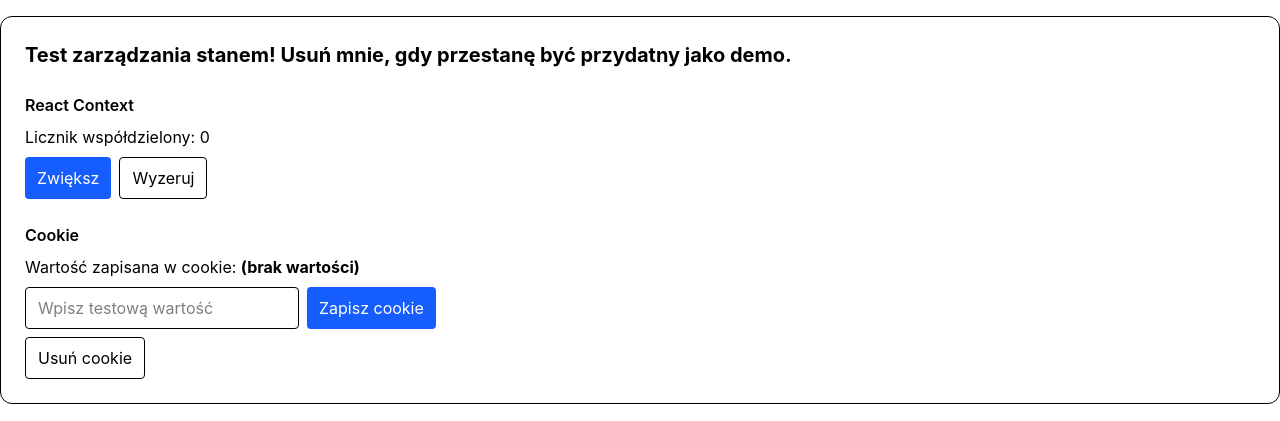
Test: StateDemo — cookies › zapisuje wpisaną wartość w cookie i pokazuje ją na stronie
Type "Moja notatka" into the field named "Wartość cookie" at (162, 308), box [25,287,299,329]
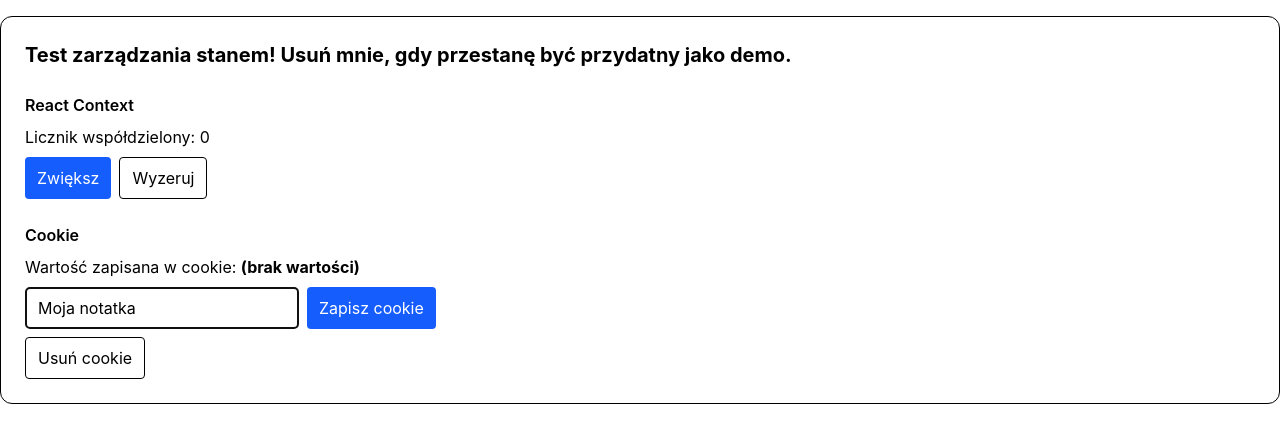
Click the button "Zapisz cookie" at (371, 308), box [307,287,436,329]
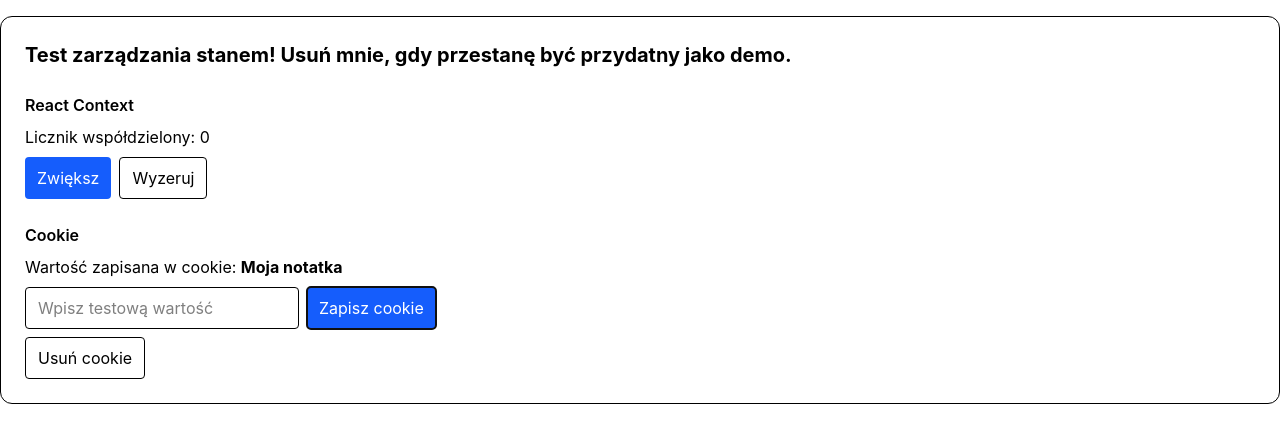
Check: the text "Moja notatka" is shown, box [241,257,342,277]
